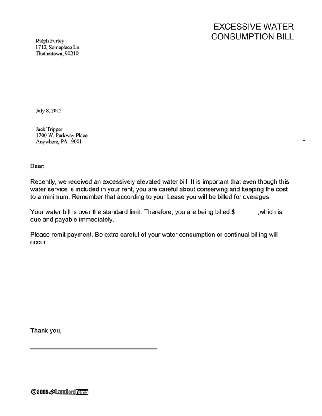textline: (28, 337, 163, 357)
